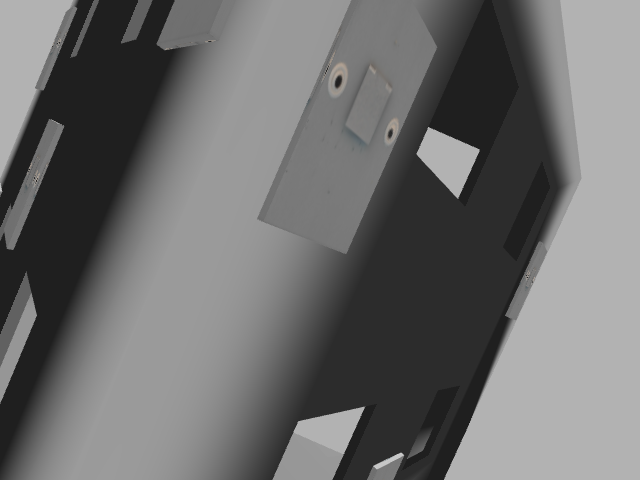facade: (326, 59, 402, 149)
